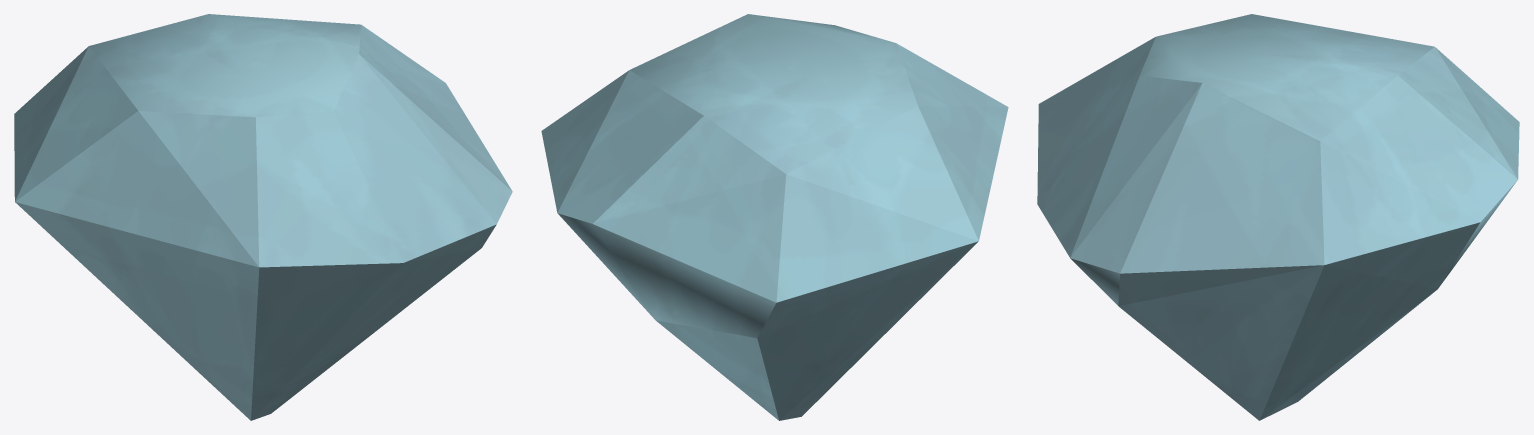
The model's file is Mineral_diamond.fbx.
3 views of the same model, side by side, from view 1: azimuth 30°, elevation 25°; view 2: azimuth 150°, elevation 25°; view 3: azimuth 270°, elevation 25° (orthographic).
Visible parts, largest first — view 1: Mineral_diamond; view 2: Mineral_diamond; view 3: Mineral_diamond.
Boxes of the visible parts, bbox=[...] form: Mineral_diamond: bbox=[14, 14, 512, 420]; Mineral_diamond: bbox=[541, 14, 1008, 420]; Mineral_diamond: bbox=[1037, 14, 1519, 420].
Size of the model in its own units: 73.26 by 58.87 by 69.9.
